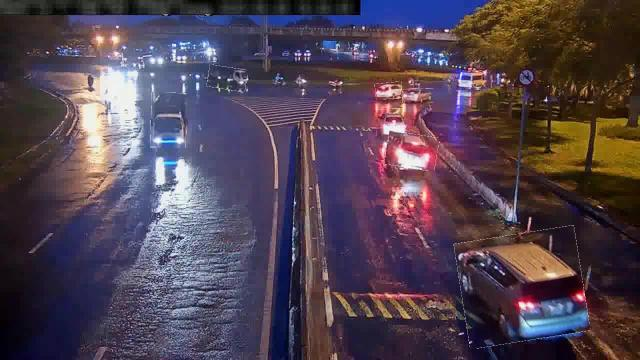Car: (458, 230, 586, 344), (386, 132, 438, 170), (376, 110, 406, 136), (376, 82, 402, 100), (402, 88, 433, 103)
Truck: (151, 92, 187, 148), (208, 66, 246, 90)
